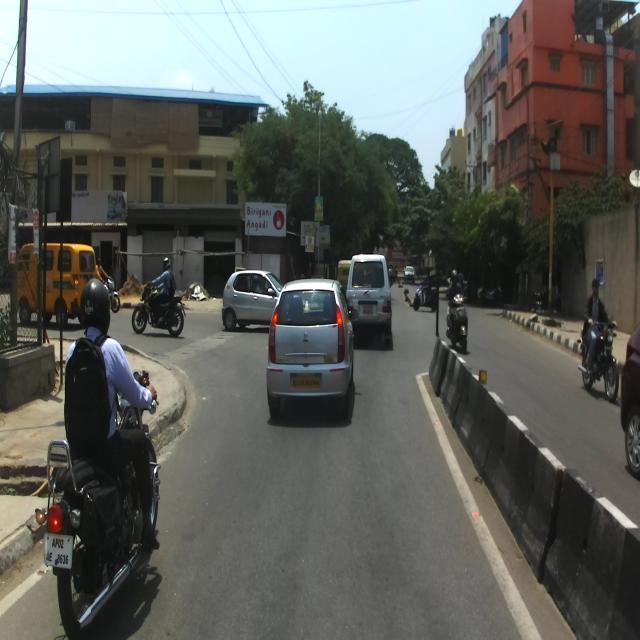car ahead at: (270, 277, 354, 410), (218, 265, 281, 336), (348, 254, 392, 336)
motorcycle ahead at: (36, 434, 166, 640)
